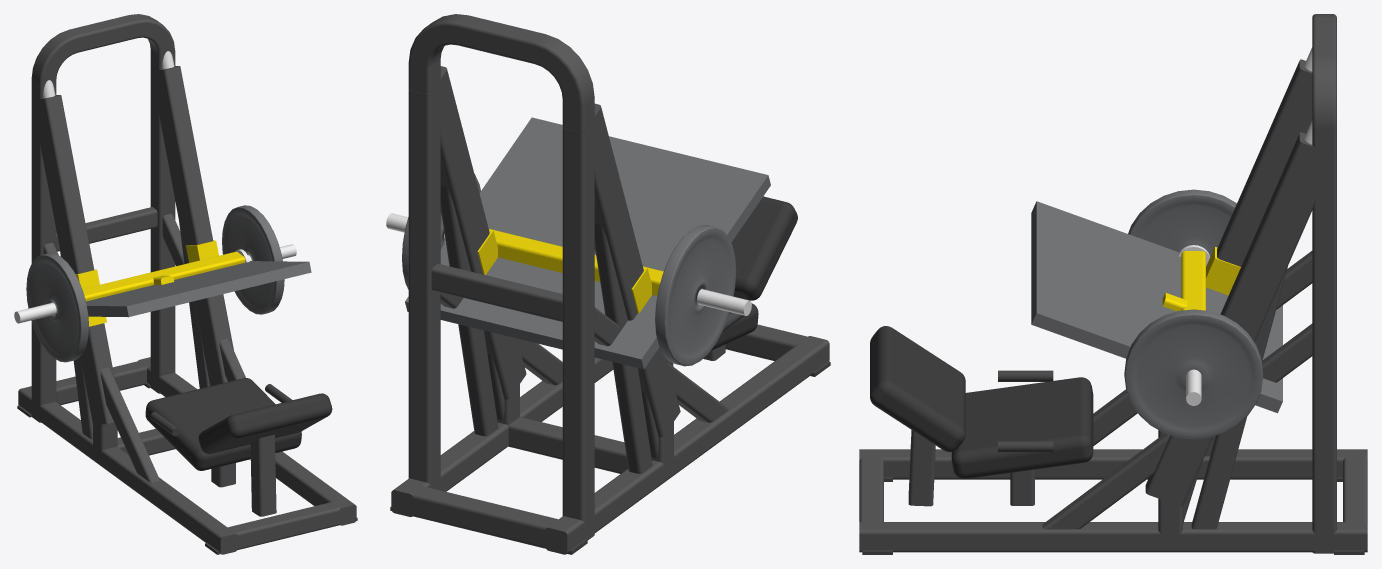
The picture shows the model from 3 angles, left to right: view 1: azimuth 30°, elevation 25°; view 2: azimuth 150°, elevation 25°; view 3: azimuth 270°, elevation 25°; orthographic projection. The views are drawn at different scales.
Parts seen in each view (by area): view 1: rail_beam (×2), base, rear_arch_tube, carriage, seat_pad, frame, foot_plate, backrest_pad, carriage_beam, backrest, rear_tie, carriage_slider (×2) (+2 smaller); view 2: rear_arch_tube, foot_plate, base, frame, rail_beam (×2), carriage, backrest_pad, rear_tie, carriage_beam, carriage_slider (×2), plate_horn, seat_pad; view 3: base, carriage, foot_plate, rail_beam (×2), rear_arch_tube, frame, seat_pad, backrest_pad, backrest, carriage_beam, side_handle (×2), carriage_slider (+1 smaller).
Part boxes in pixels (x1,y1,x2,y2): rail_beam (×2): [31, 66, 233, 424]; base: [17, 357, 357, 554]; rear_arch_tube: [31, 14, 175, 422]; carriage: [26, 205, 284, 362]; seat_pad: [145, 378, 301, 470]; frame: [43, 214, 245, 482]; foot_plate: [86, 261, 311, 317]; backrest_pad: [198, 393, 332, 454]; carriage_beam: [82, 251, 245, 301]; backrest: [250, 434, 276, 516]; rear_tie: [56, 207, 157, 251]; carriage_slider (×2): [75, 240, 218, 326]; rear_arch_tube: [408, 14, 594, 540]; foot_plate: [405, 117, 770, 369]; base: [390, 324, 830, 554]; frame: [440, 186, 728, 473]; rail_beam (×2): [408, 66, 680, 437]; carriage: [402, 174, 736, 366]; backrest_pad: [731, 196, 797, 300]; rear_tie: [431, 263, 562, 321]; carriage_beam: [489, 229, 663, 295]; carriage_slider (×2): [477, 229, 651, 313]; plate_horn: [697, 289, 751, 315]; seat_pad: [711, 303, 758, 350]; base: [859, 449, 1367, 554]; carriage: [1124, 189, 1262, 439]; foot_plate: [1031, 201, 1282, 413]; rail_beam (×2): [1145, 59, 1336, 506]; rear_arch_tube: [1312, 14, 1336, 553]; frame: [1042, 251, 1312, 542]; seat_pad: [951, 377, 1093, 478]; backrest_pad: [870, 326, 965, 452]; backrest: [908, 430, 935, 506]; carriage_beam: [1181, 251, 1205, 310]; side_handle (×2): [998, 370, 1053, 451]; carriage_slider: [1206, 247, 1240, 295].
Bounding box in the file's own units: 1.3 × 1.7 × 1.65.
